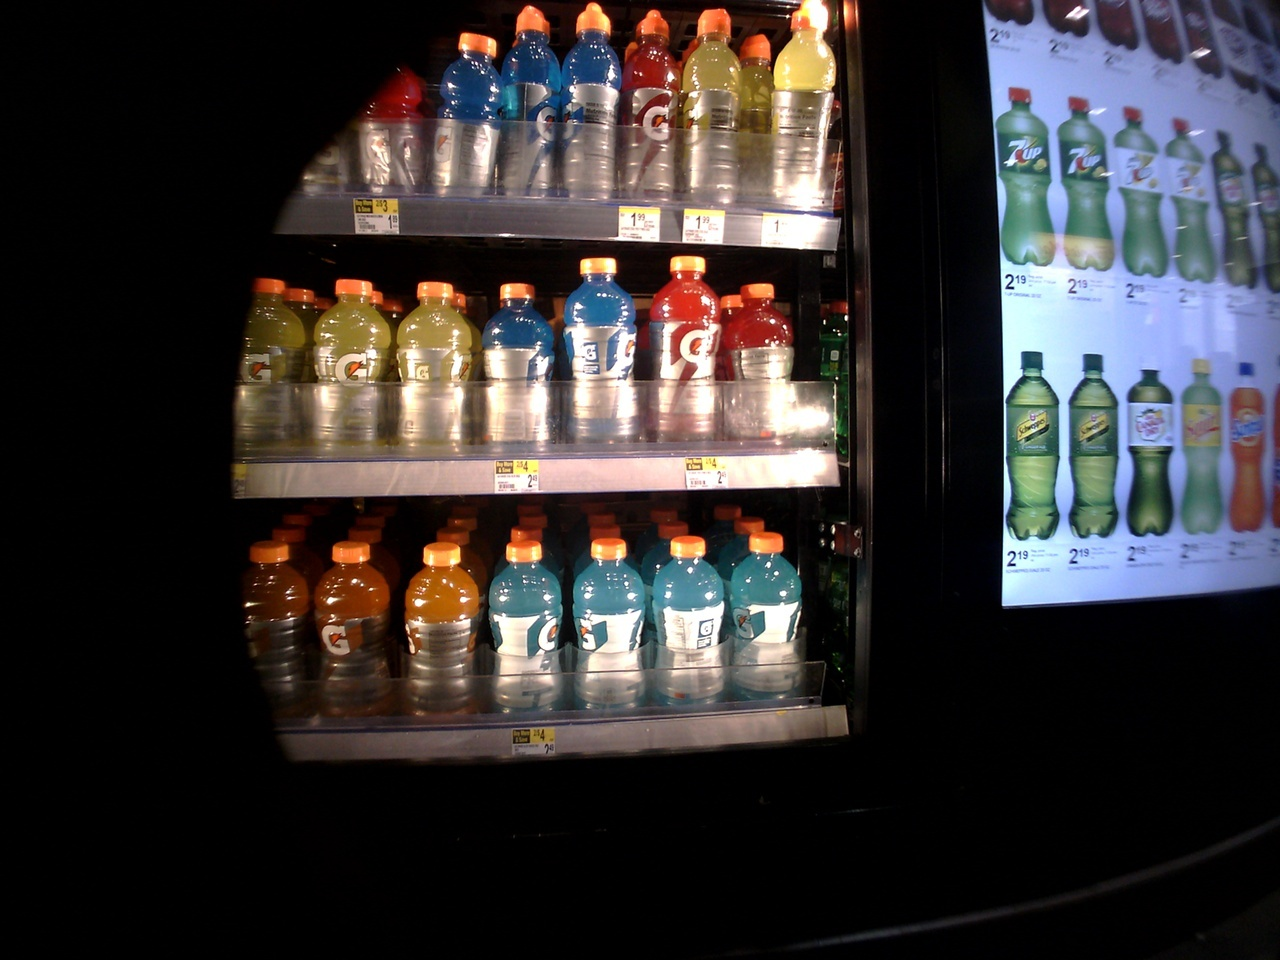shelf: (210, 499, 851, 755), (231, 0, 857, 251), (227, 248, 817, 493)
